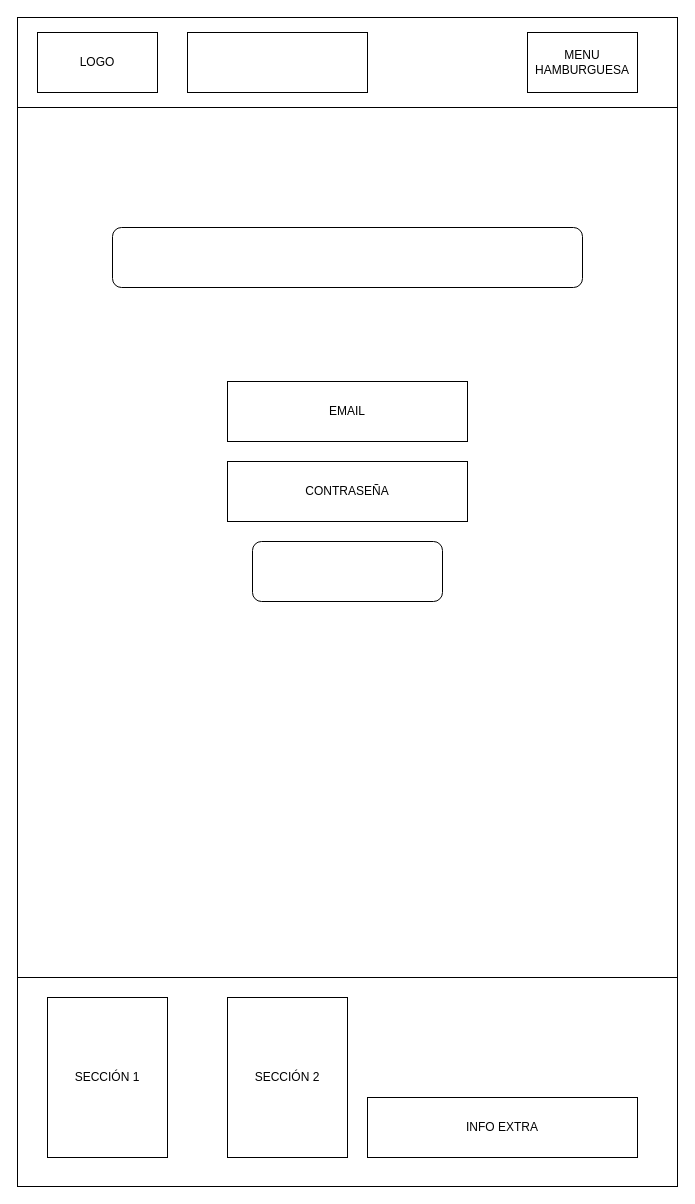
The diagram is 695 pixels wide and 1204 high, and some of its shapes have lost their labels. Here are the shapes that lost their labels. From the top down, the box of each, then its label:
(186, 32, 368, 92): NOMBRE DE EMPRESA
(112, 226, 582, 288): TÍTULO LOGIN EMPLEADOS
(252, 540, 442, 602): INICIAR SESIÓN
